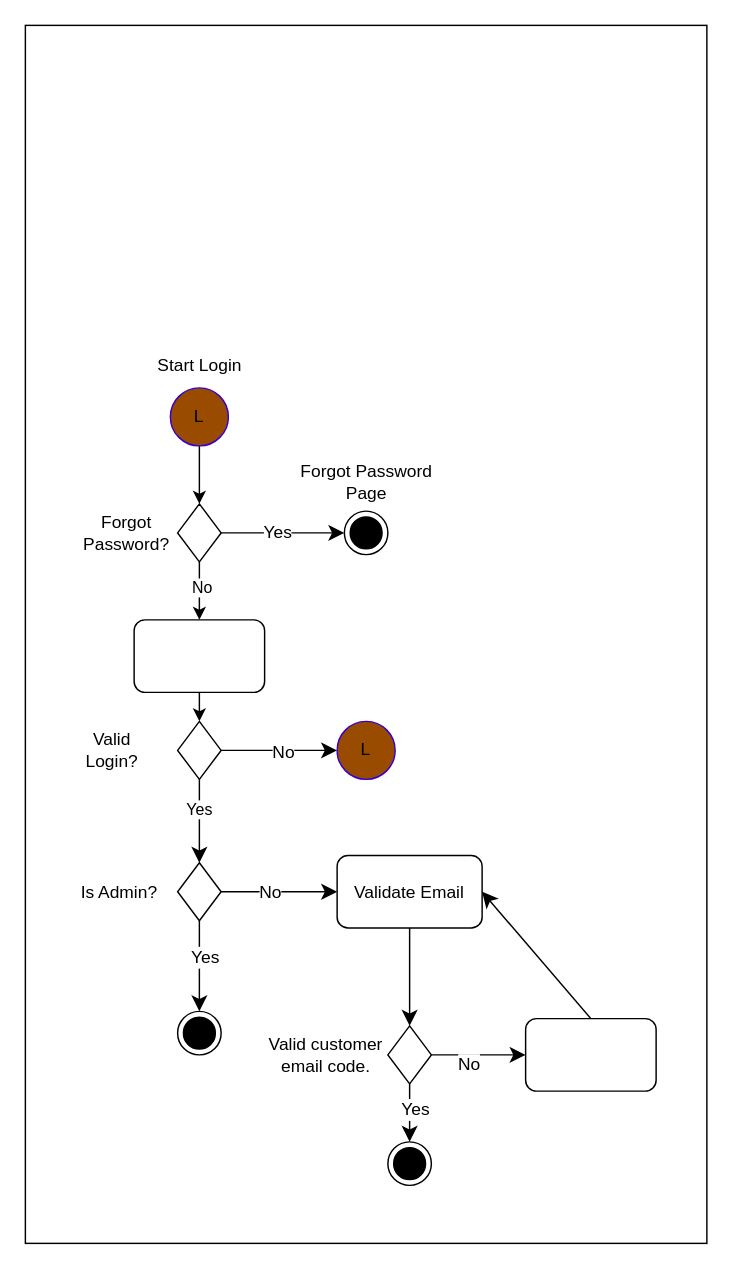
Image size: 732x1269. Some labels were removed from this diagram. The box of each missing label's shape, as (x1, y1, x2, y2) in pixels:
Input Account Details: (133, 618, 265, 692)
Resend Code: (524, 1017, 656, 1091)
